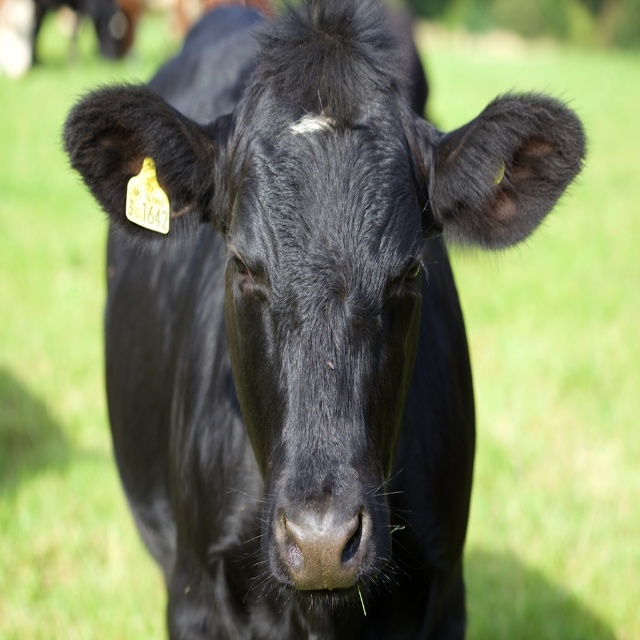Cattle: (58, 0, 590, 640)
